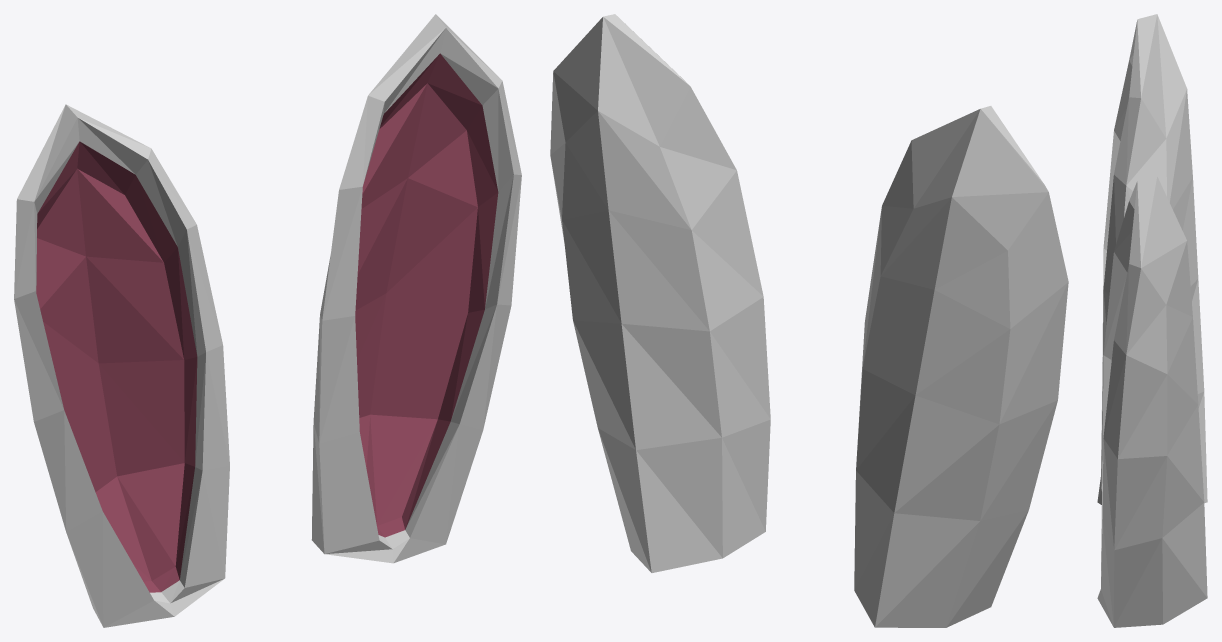
The model's file is Rabbit ears by Poly by Google - 1bLq_k5vHMt.glb.
3 renders of one model, left to right at view 1: azimuth 30°, elevation 25°; view 2: azimuth 150°, elevation 25°; view 3: azimuth 270°, elevation 25°, orthographic. The views are drawn at different scales.
Parts seen in each view (by area): view 1: Node; view 2: Node; view 3: Node.
Boxes of the visible parts, x1,y1,x2,y2 form: Node: (14, 14, 521, 627); Node: (550, 14, 1068, 627); Node: (1097, 14, 1207, 627).
Size of the model in its own units: 2.58 by 2.49 by 0.5384.
